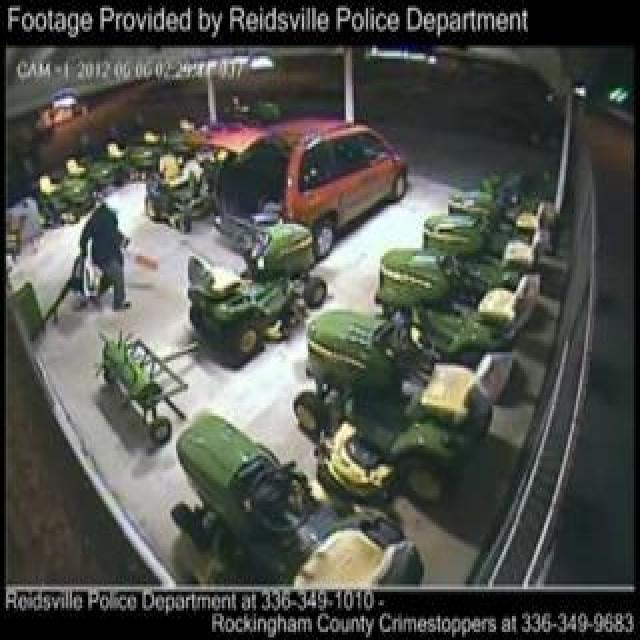thief: (70, 176, 141, 298)
